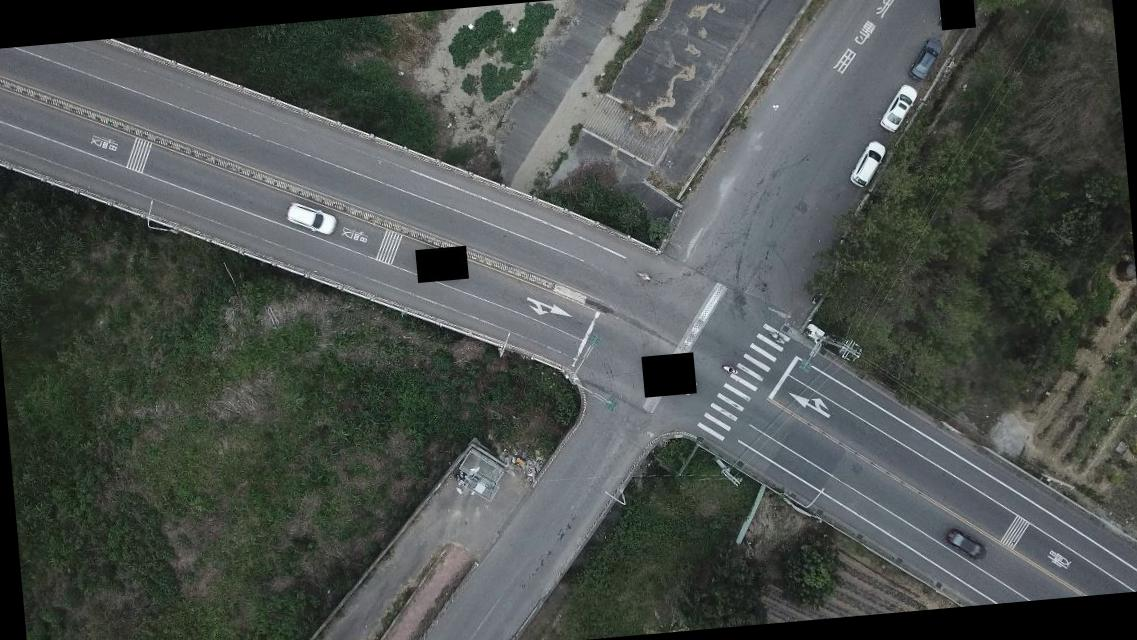vehicle: (876, 83, 921, 133), (846, 139, 890, 190), (283, 200, 340, 238), (907, 38, 947, 82), (946, 526, 988, 566)
